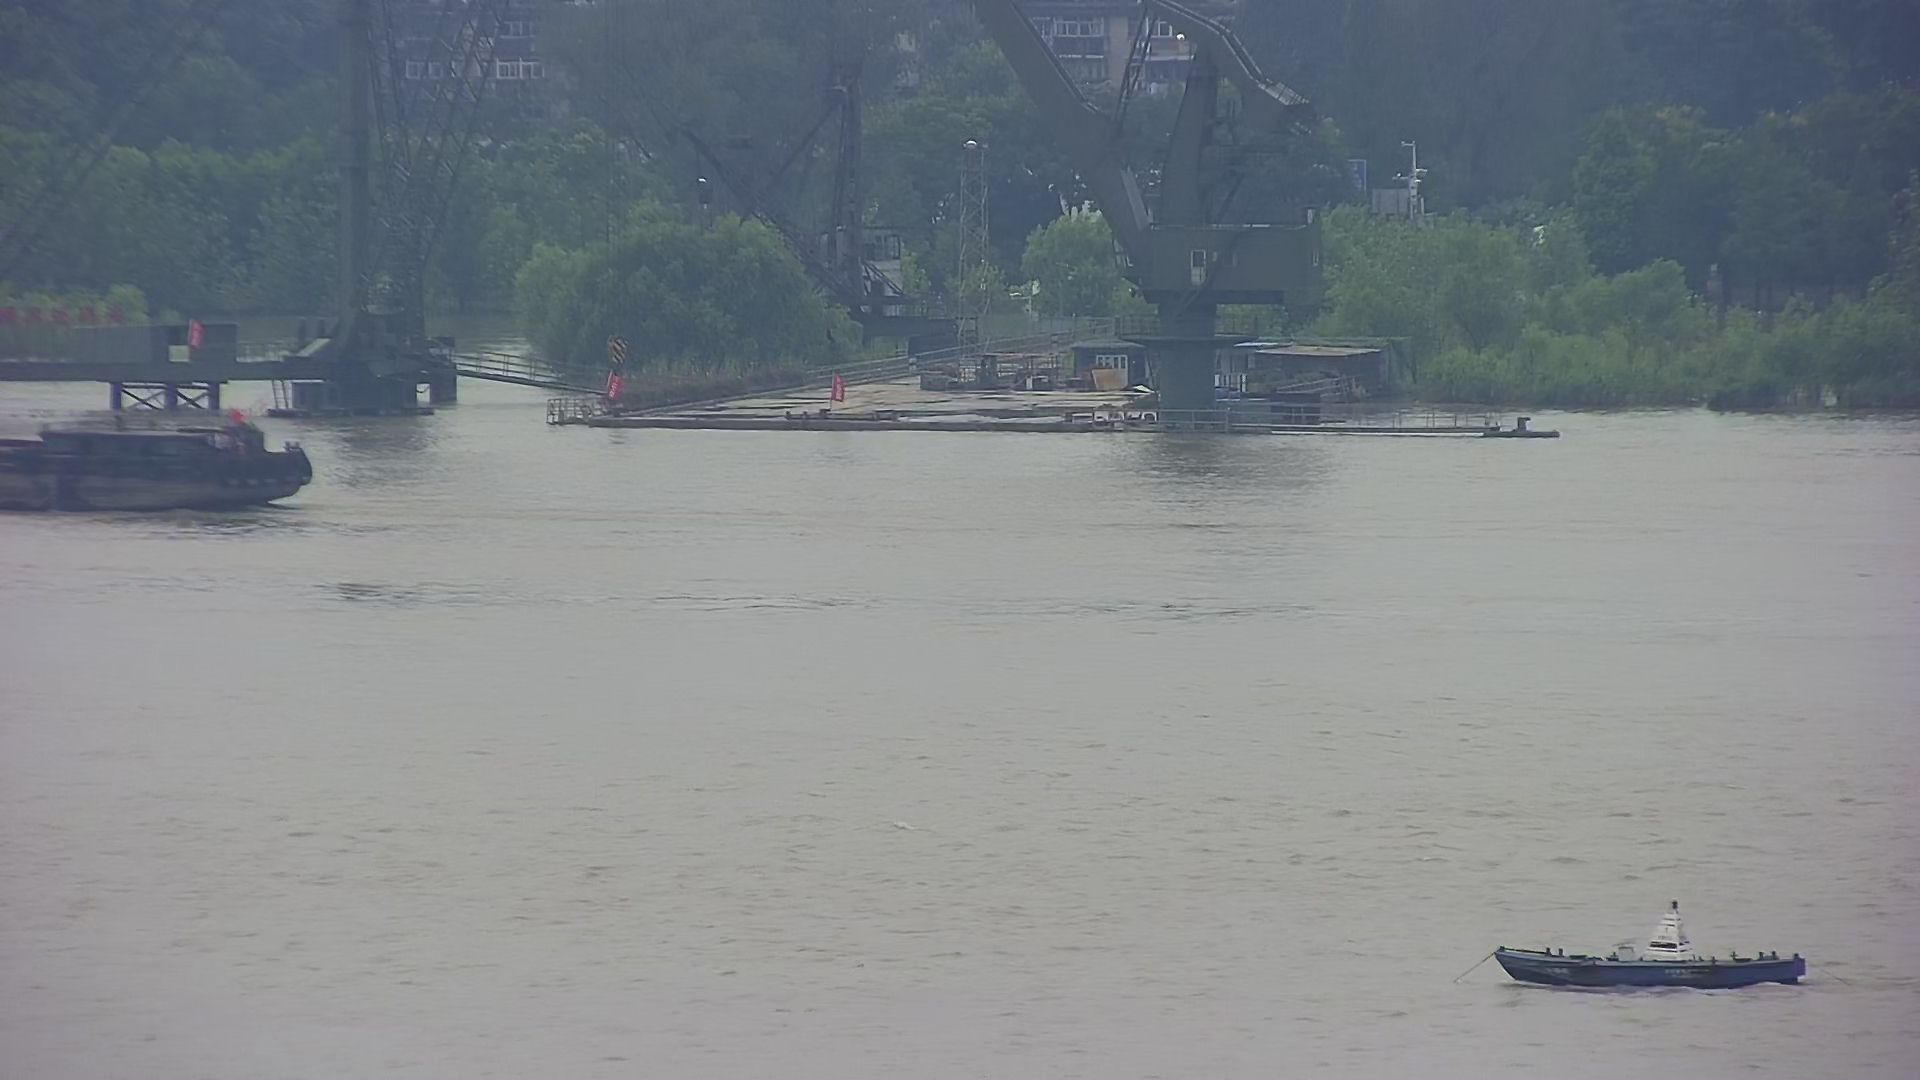boat: (1478, 884, 1826, 1000)
platform: (1, 4, 483, 419)
ship: (1, 394, 347, 535)
